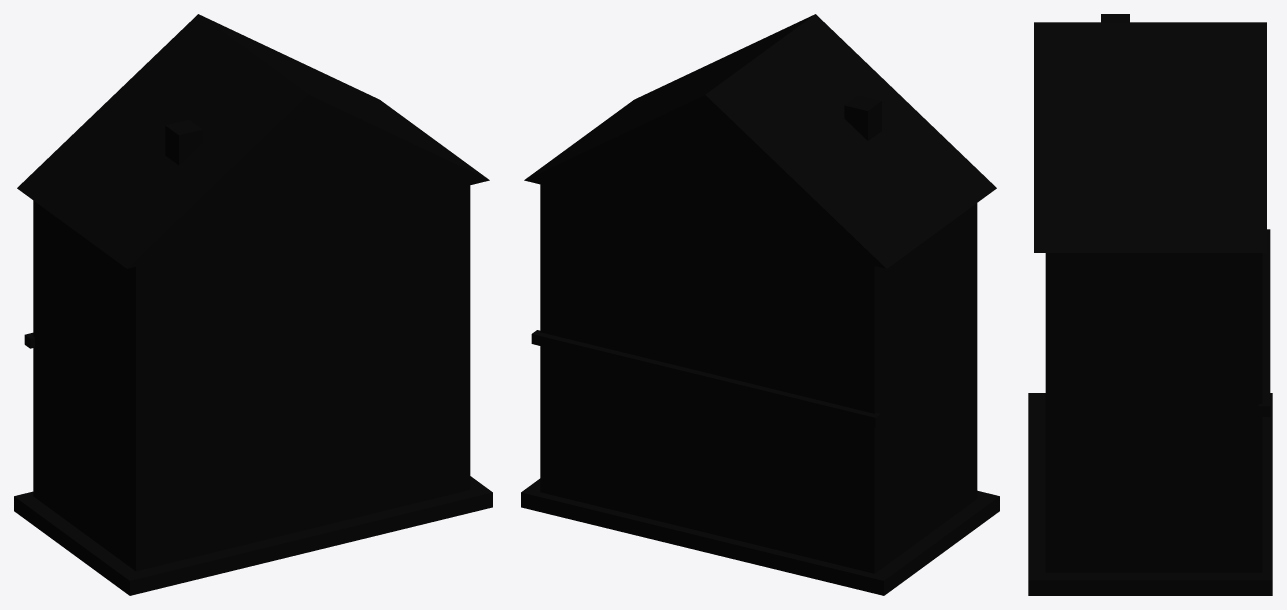
Rendered from SM_dollhouse.fbx.
3 renders of one model, left to right at view 1: azimuth 30°, elevation 25°; view 2: azimuth 150°, elevation 25°; view 3: azimuth 270°, elevation 25°, orthographic. The views are drawn at different scales.
Visible parts, largest first — view 1: dollhouse, dollhouse_front; view 2: dollhouse_front, dollhouse; view 3: dollhouse, dollhouse_front.
Boxes of the visible parts, <box> form: dollhouse: <box>14,14,492,595</box>; dollhouse_front: <box>24,200,36,498</box>; dollhouse_front: <box>531,184,881,573</box>; dollhouse: <box>521,14,999,595</box>; dollhouse: <box>1028,14,1272,595</box>; dollhouse_front: <box>1255,229,1270,572</box>.
Bounding box in the file's own units: 0.76 × 0.91 × 0.42.
